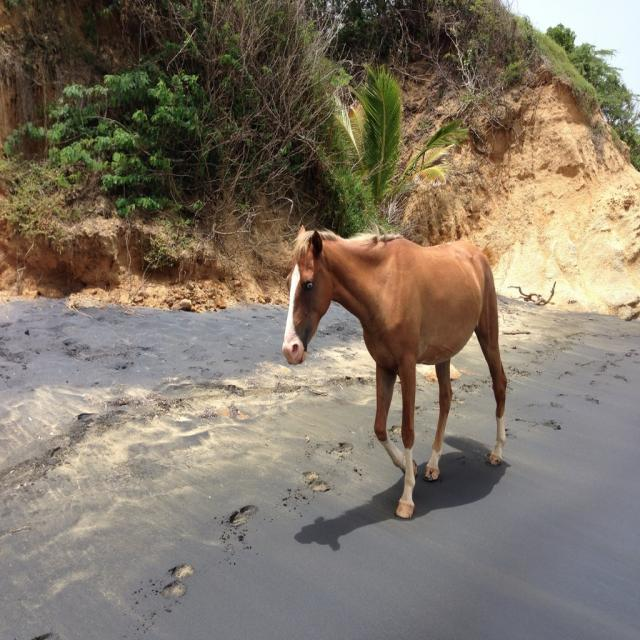Horse: (281, 223, 508, 520)
